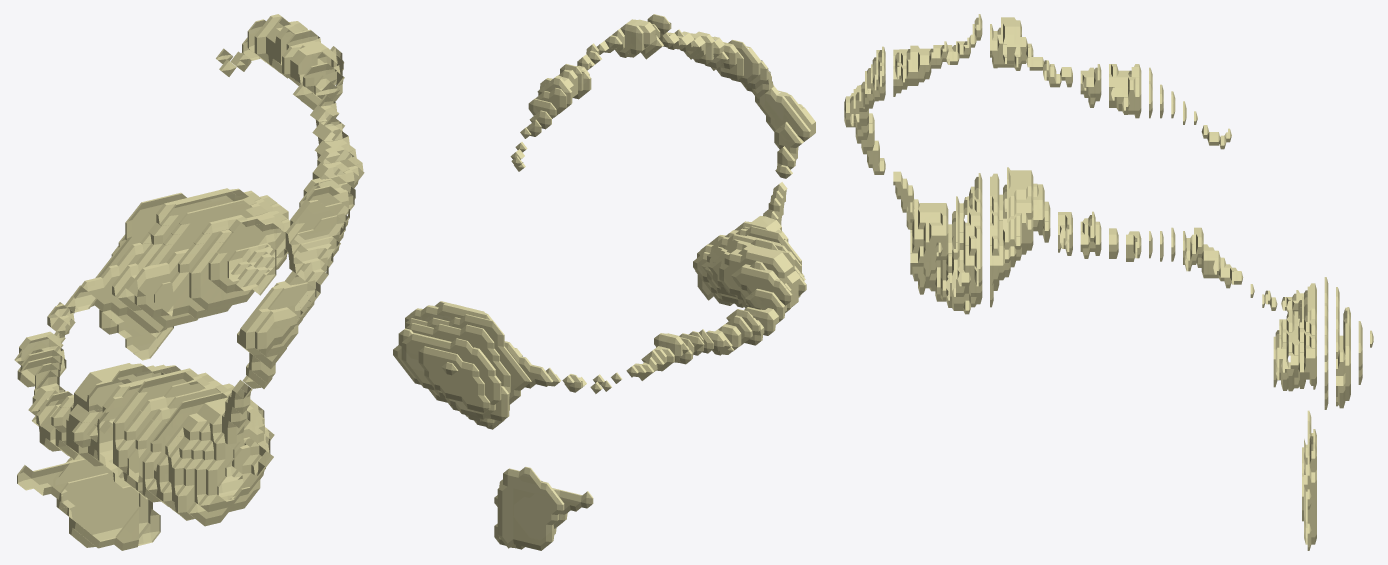
The model's file is SVV_OLQDR.gltf.
3 renders of one model, left to right at view 1: azimuth 30°, elevation 25°; view 2: azimuth 150°, elevation 25°; view 3: azimuth 270°, elevation 25°, orthographic. The views are drawn at different scales.
Parts seen in each view (by area): view 1: OLQDR; view 2: OLQDR; view 3: OLQDR.
Part boxes in pixels (bbox=[...]): OLQDR: bbox=[14, 14, 364, 550]; OLQDR: bbox=[393, 14, 815, 550]; OLQDR: bbox=[844, 14, 1373, 550].
Bounding box in the file's own units: 25616 × 38928 × 35867.
